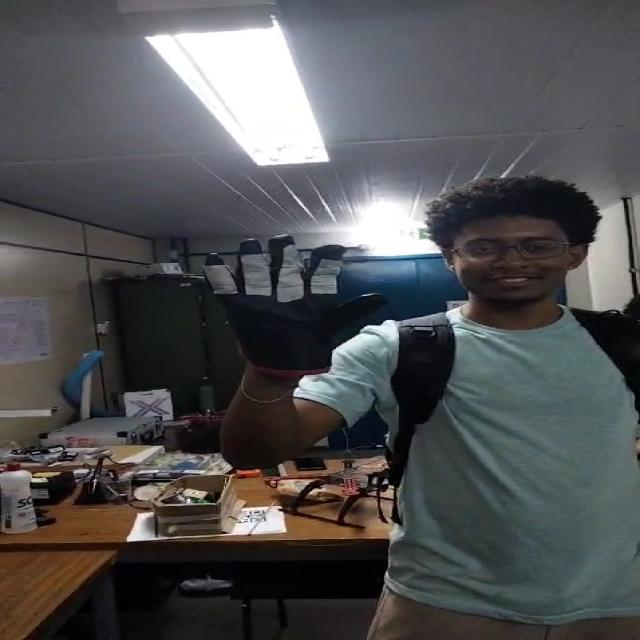Gloves: (194, 232, 382, 380)
